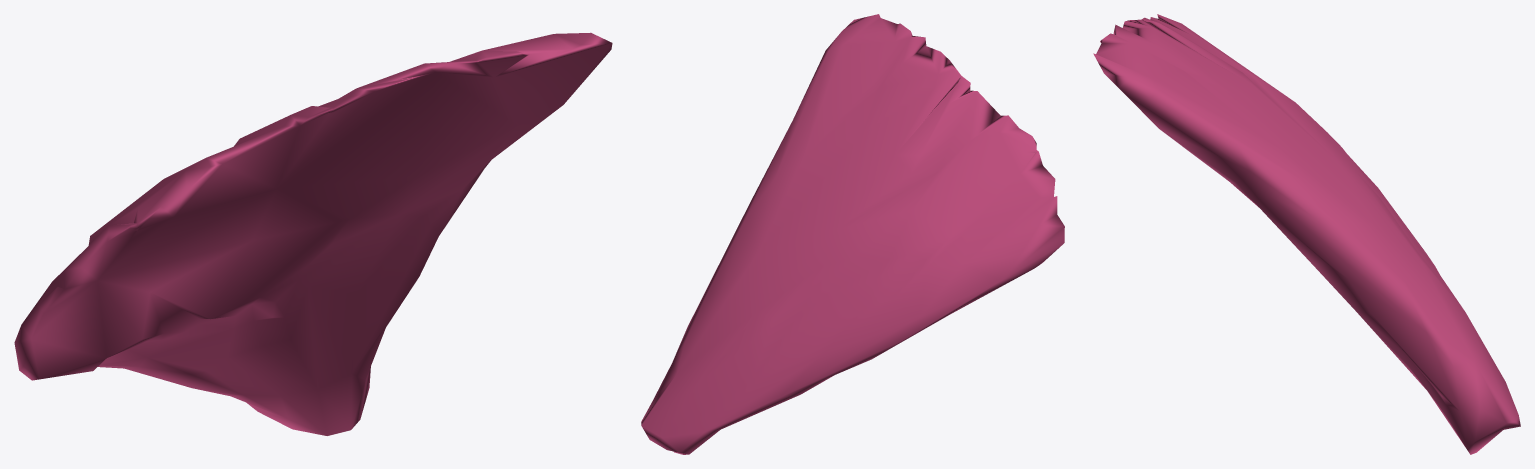
3 renders of one model, left to right at view 1: azimuth 30°, elevation 25°; view 2: azimuth 150°, elevation 25°; view 3: azimuth 270°, elevation 25°, orthographic. The views are drawn at different scales.
Visible parts, largest first — view 1: 右侧头后小直肌; view 2: 右侧头后小直肌; view 3: 右侧头后小直肌.
Boxes of the visible parts, x1,y1,x2,y2 form: 右侧头后小直肌: (14, 32, 612, 435); 右侧头后小直肌: (641, 14, 1064, 454); 右侧头后小直肌: (1093, 14, 1520, 454).
Size of the model in its own units: 0.0348 by 0.0373 by 0.0383.
